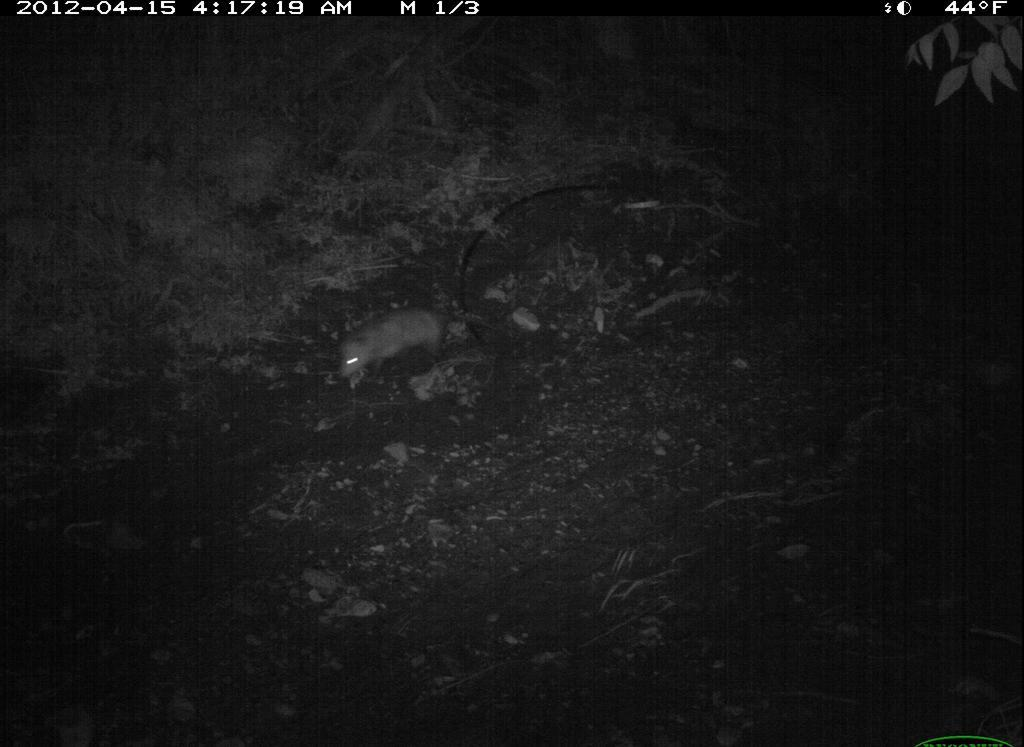opossum: (315, 296, 492, 382)
